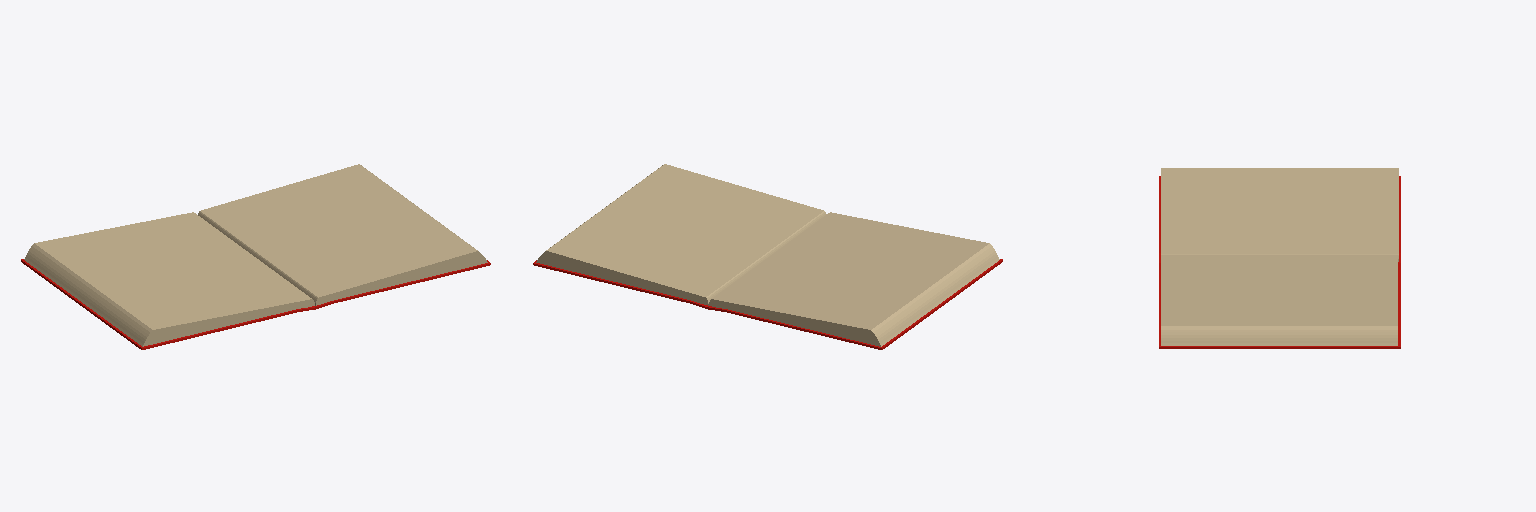
File: openbook.obj
The picture shows the model from 3 angles: view 1: azimuth 30°, elevation 25°; view 2: azimuth 150°, elevation 25°; view 3: azimuth 270°, elevation 25°; orthographic projection.
Parts seen in each view (by area): view 1: Plane.001, Plane.002, Plane; view 2: Plane.001, Plane.002, Plane; view 3: Plane.002, Plane.001, Plane.
Part boxes in pixels (x1,y1,x2,y2): Plane.001: (24, 212, 314, 346); Plane.002: (198, 164, 487, 305); Plane: (21, 259, 490, 349); Plane.001: (709, 212, 999, 346); Plane.002: (536, 164, 826, 305); Plane: (533, 259, 1002, 349); Plane.002: (1161, 256, 1397, 345); Plane.001: (1161, 168, 1398, 261); Plane: (1159, 176, 1400, 348).
Size of the model in its own units: 10.04 by 0.4928 by 6.03.